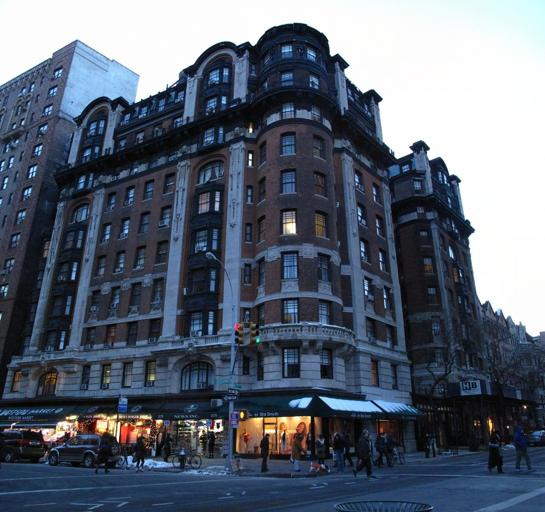non-vehicle: (172, 446, 203, 471), (388, 442, 407, 465)
